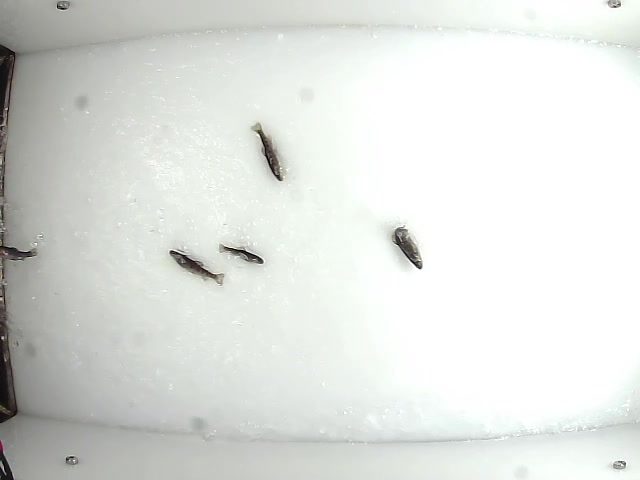fish: (168, 249, 226, 287), (249, 119, 281, 181), (387, 223, 424, 273), (216, 238, 265, 265), (1, 241, 38, 261)
